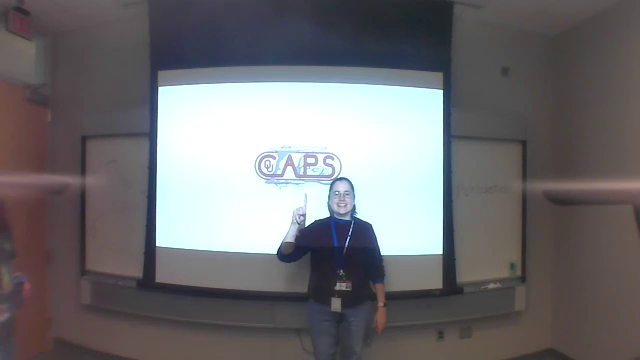up: (291, 192, 311, 224)
